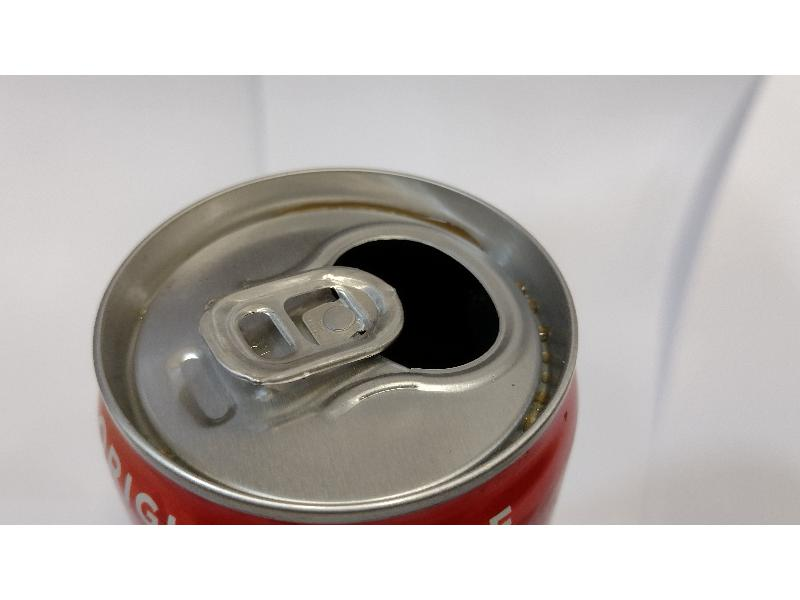can: (86, 160, 587, 526)
